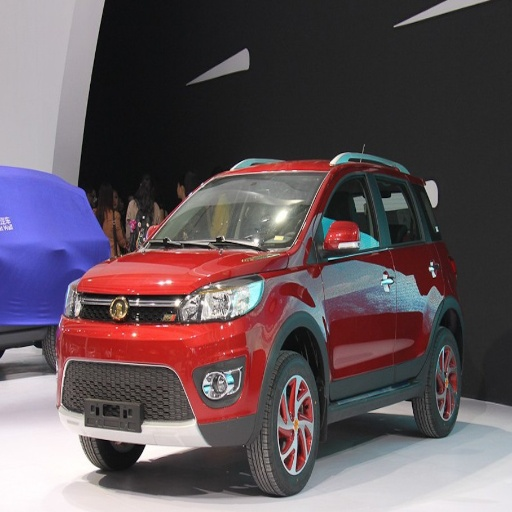front_bumper: (58, 292, 278, 449)
front_glass: (148, 175, 324, 250)
front_left_door: (311, 165, 394, 393)
